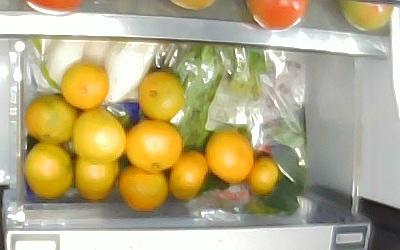tangerine: (125, 120, 182, 173), (73, 109, 125, 163), (206, 129, 254, 184), (25, 91, 76, 142), (24, 143, 73, 195), (137, 69, 182, 123), (119, 164, 168, 211), (61, 60, 108, 109), (169, 150, 207, 201), (74, 154, 114, 198), (248, 156, 278, 195)
